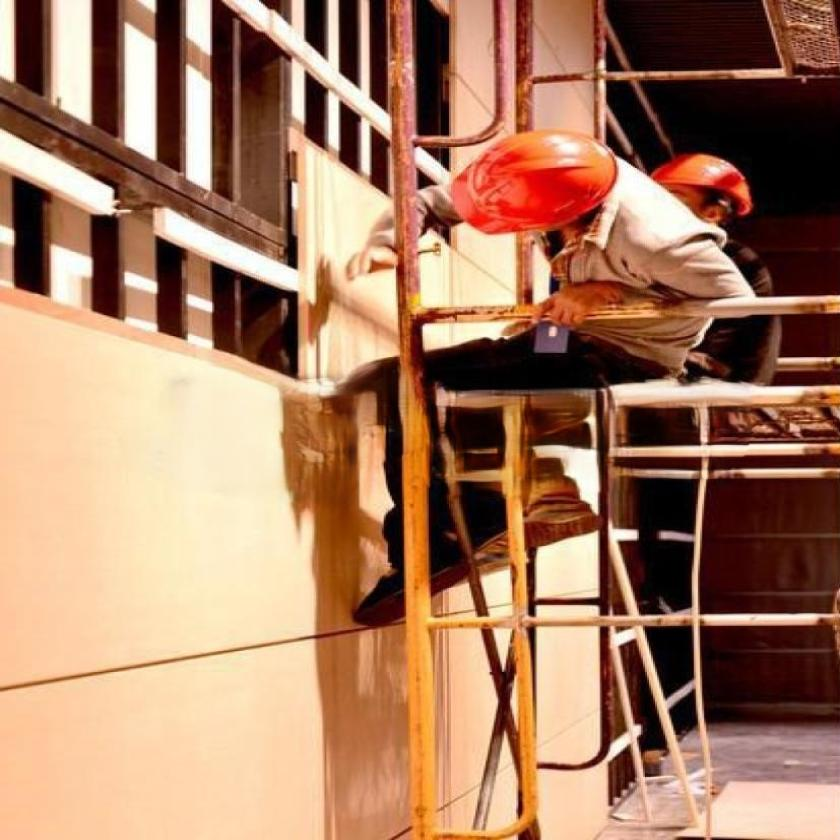Con_casco: (446, 117, 617, 252), (645, 144, 759, 246)
